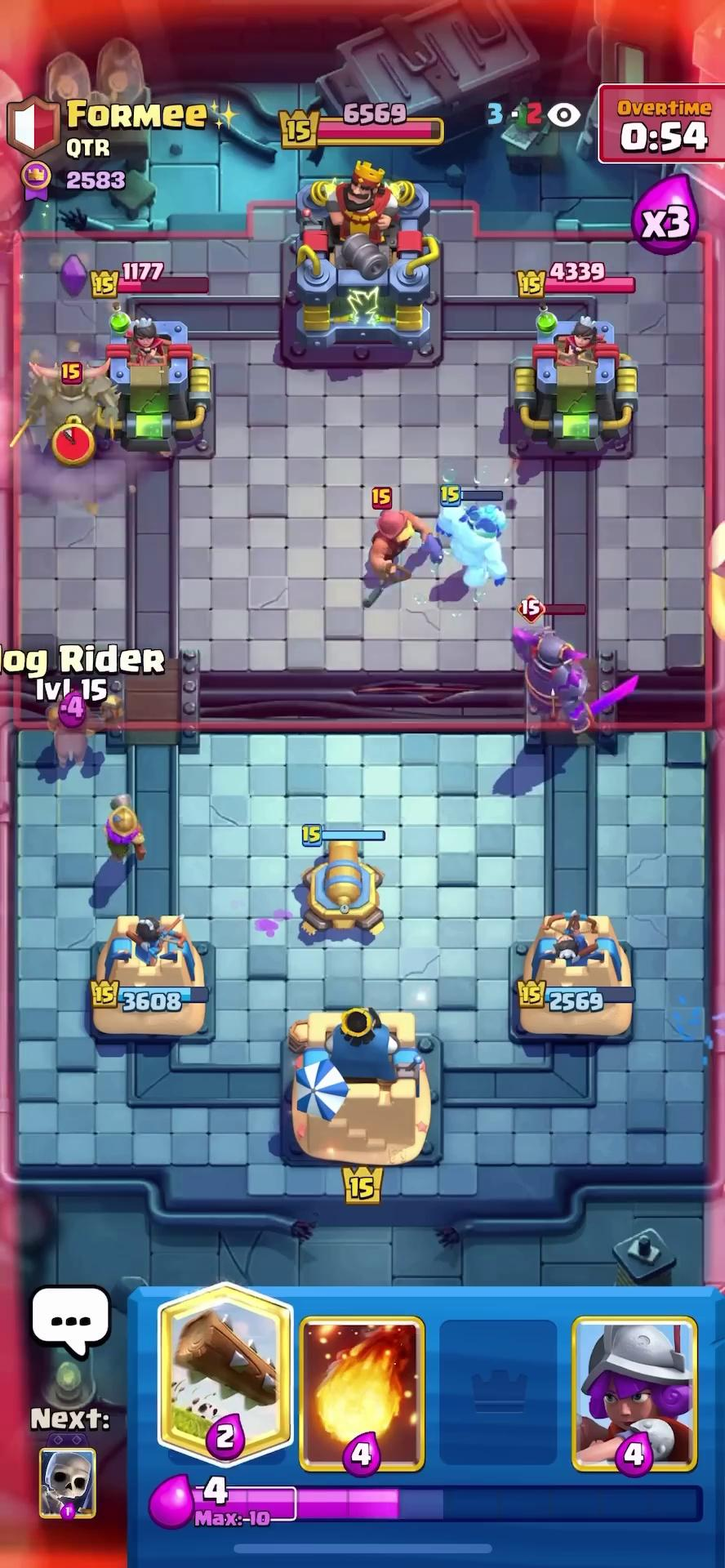cannon: (286, 823, 400, 939)
ice_golem: (433, 482, 520, 594)
musketeer: (92, 780, 151, 860)
